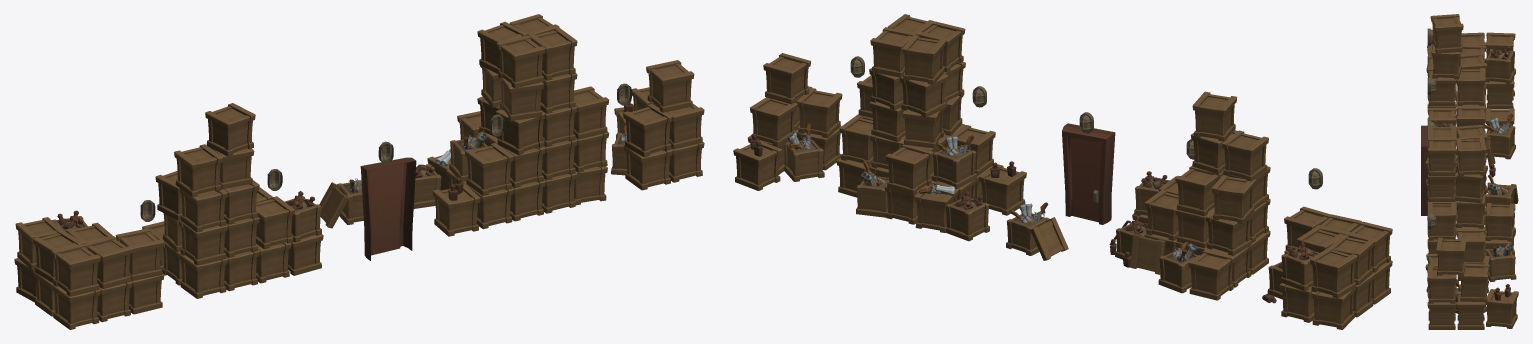
File: Setdressing_Level1_Boxes_and_Gunes.fbx
3 views of the same model, side by side, from view 1: azimuth 30°, elevation 25°; view 2: azimuth 150°, elevation 25°; view 3: azimuth 270°, elevation 25° (orthographic). The views are drawn at different scales.
Visible parts, largest first — view 1: Setdressing_Level1_Boxes_and_Gunes; view 2: Setdressing_Level1_Boxes_and_Gunes; view 3: Setdressing_Level1_Boxes_and_Gunes.
Part boxes in pixels (bbox=[...]): Setdressing_Level1_Boxes_and_Gunes: bbox=[14, 14, 704, 329]; Setdressing_Level1_Boxes_and_Gunes: bbox=[733, 14, 1392, 329]; Setdressing_Level1_Boxes_and_Gunes: bbox=[1421, 14, 1518, 329].
Size of the model in its own units: 2005 by 337 by 502.
